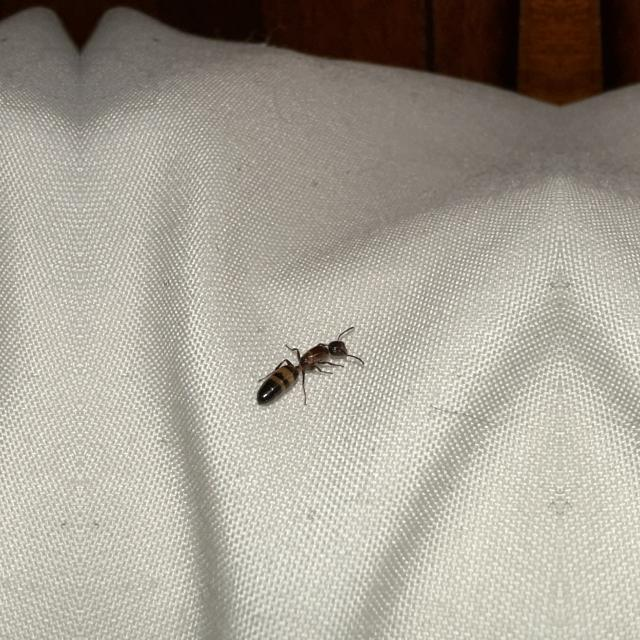Colobopsis: (244, 314, 366, 426)
